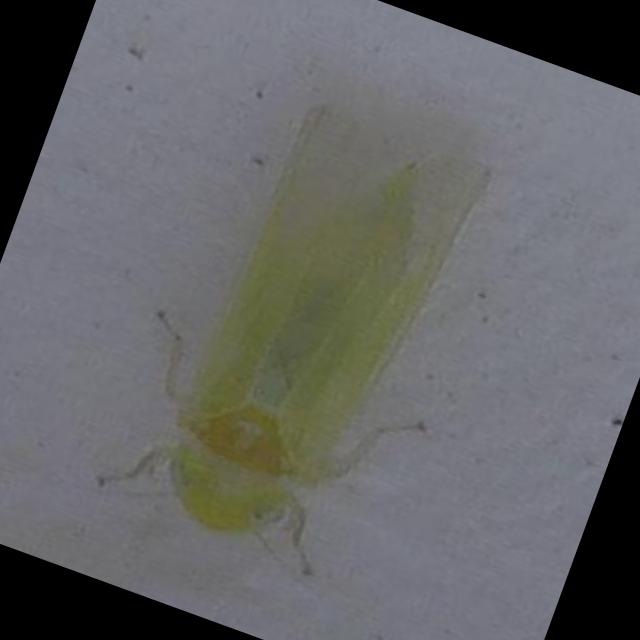green-leafhopper: (58, 59, 514, 600)
